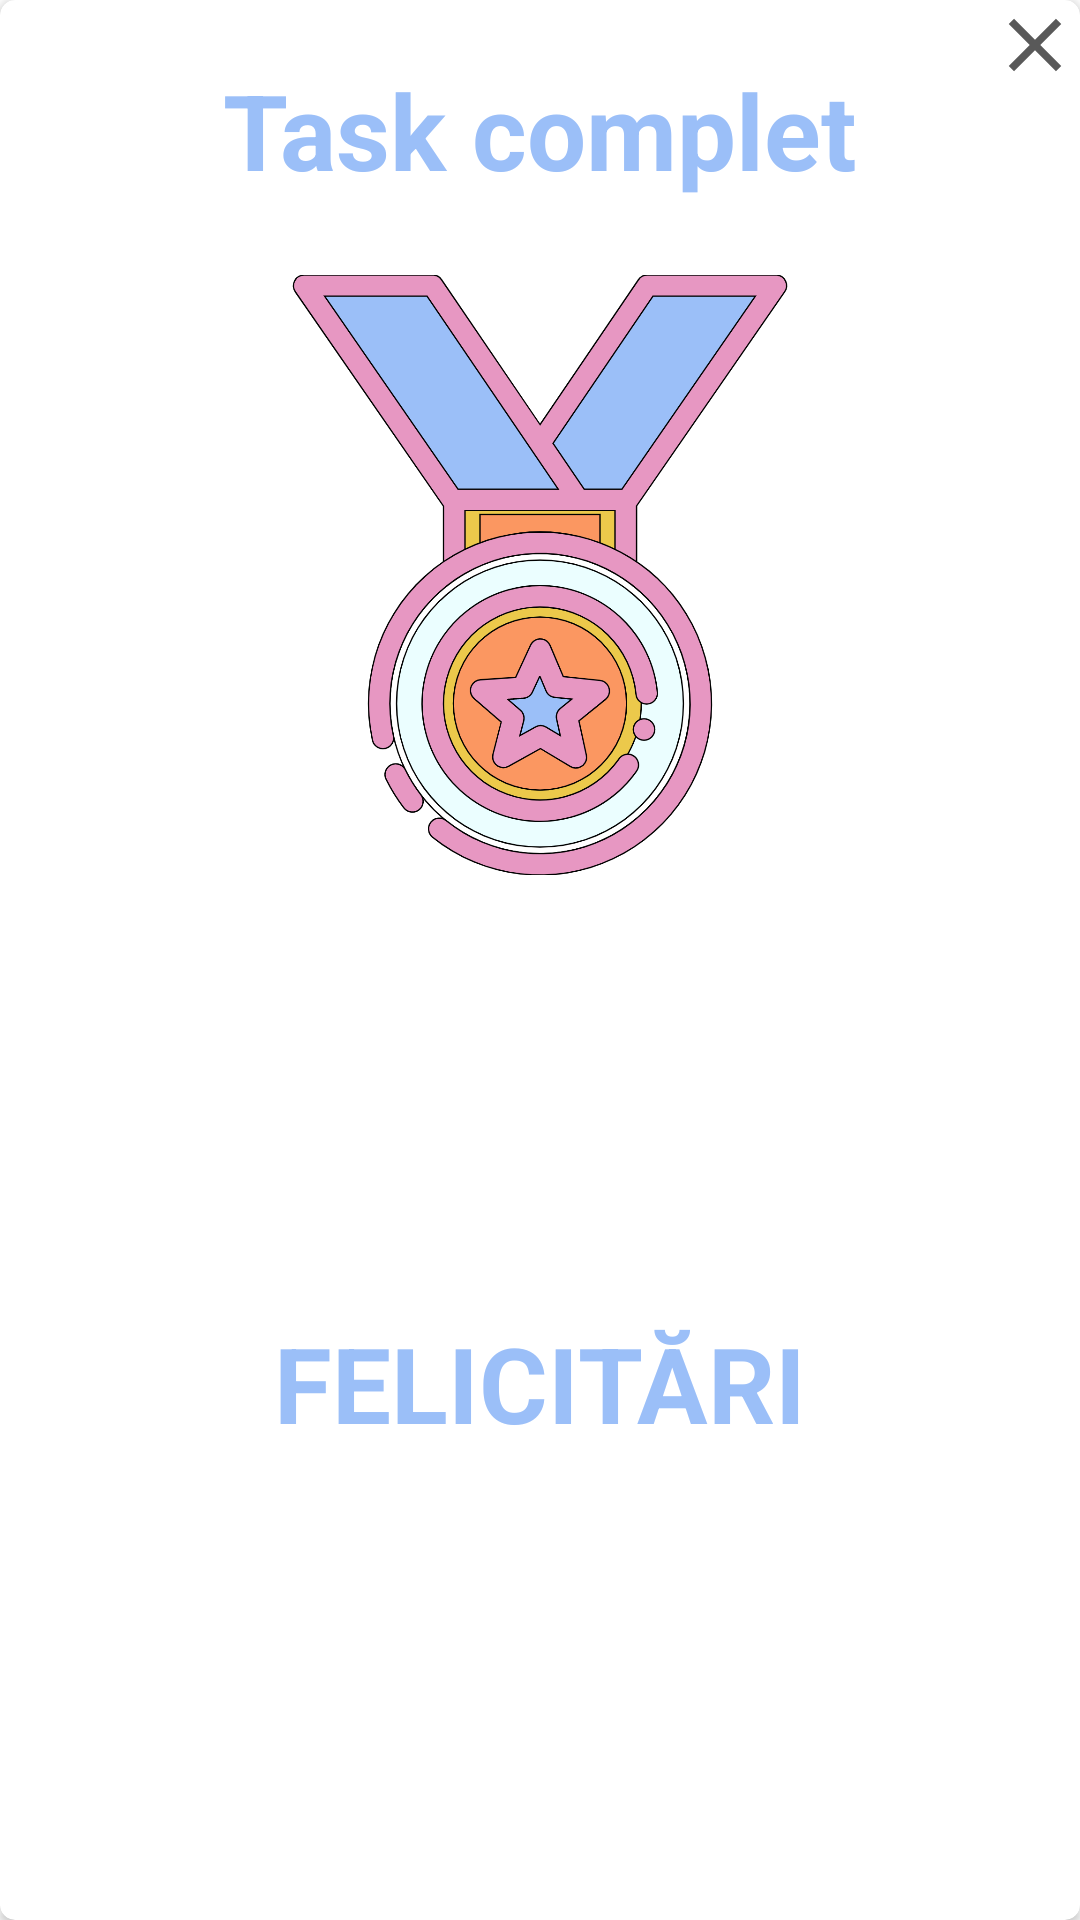

Icons on this 1080x1920 Android screen, each with the point to tap as [x,y]:
close: [1044,40]
